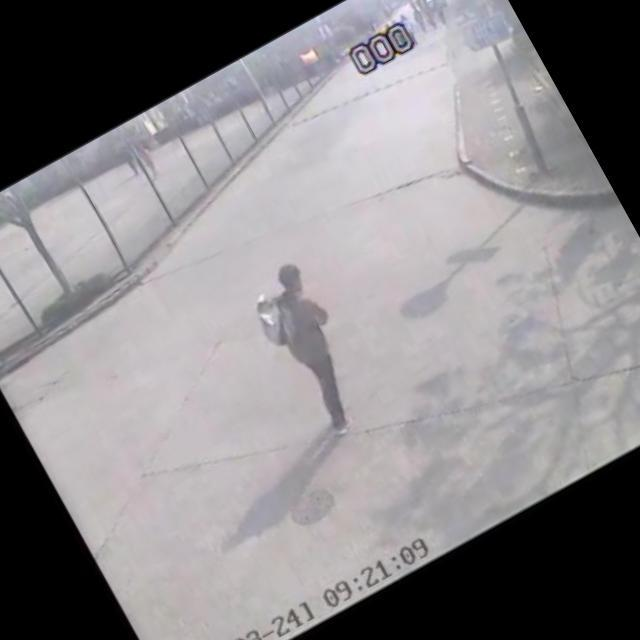person: (235, 256, 389, 452)
